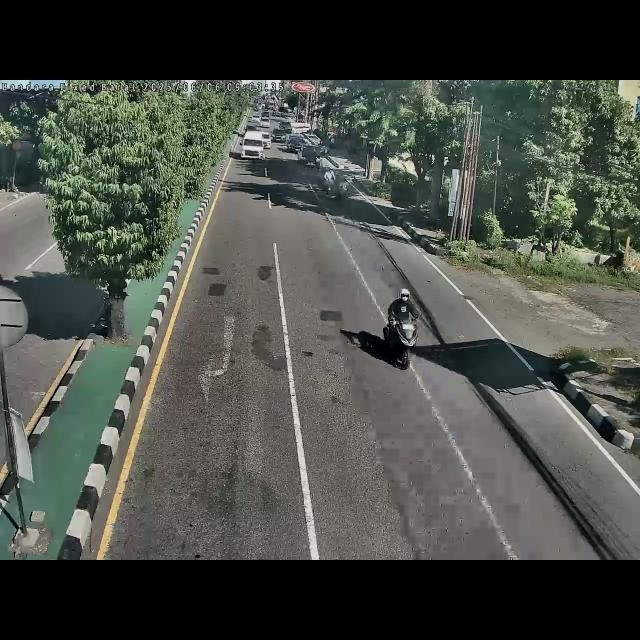Mobil: (239, 128, 267, 164)
Motor: (383, 280, 422, 370)
